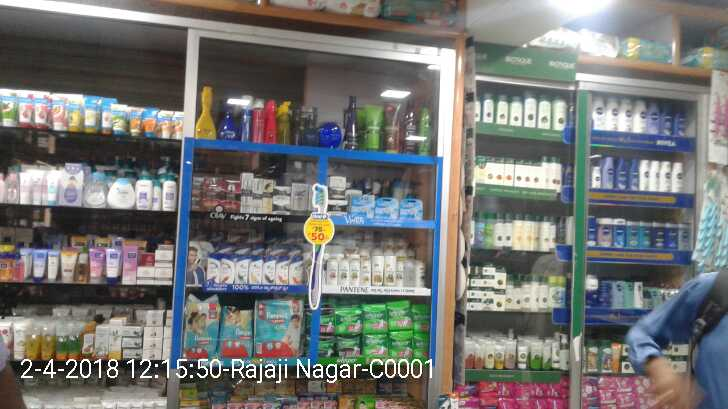venus: (350, 194, 375, 217), (400, 199, 424, 219), (375, 198, 399, 217)
